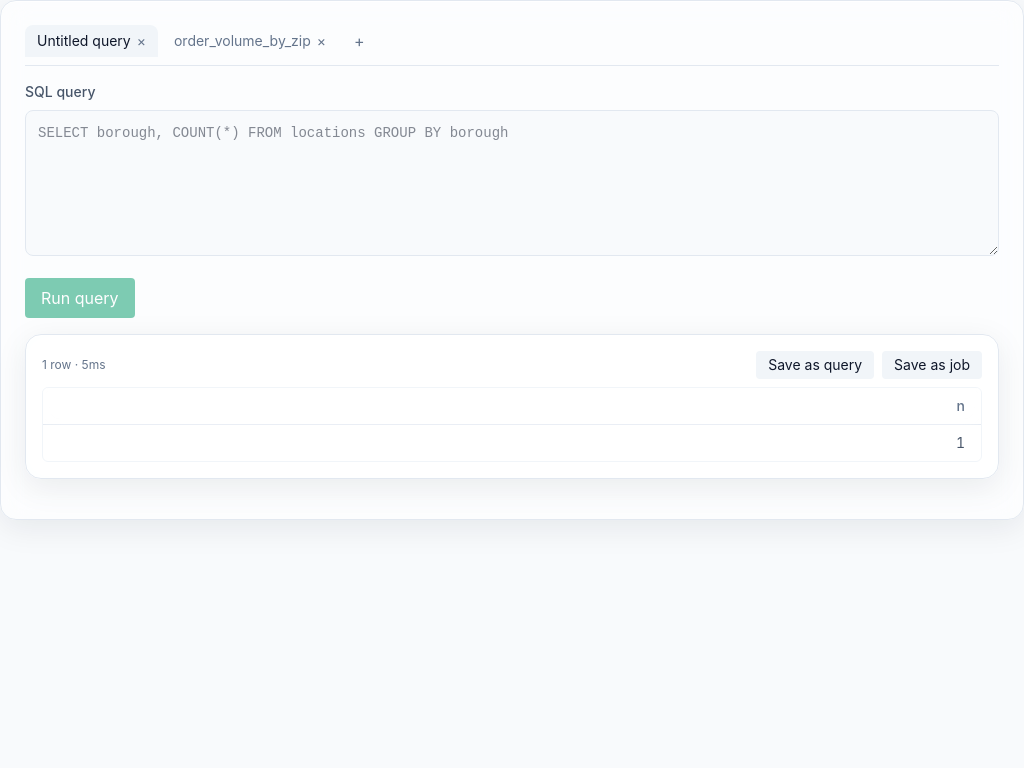
Scenario: QueryWorkspace › Save as job opens a JobDefinitionForm scoped to that tab, and creating dismisses it
In the text box labelled "SQL query": (512,183) x1=25 y1=110 x2=999 y2=256, type "SELECT 1"
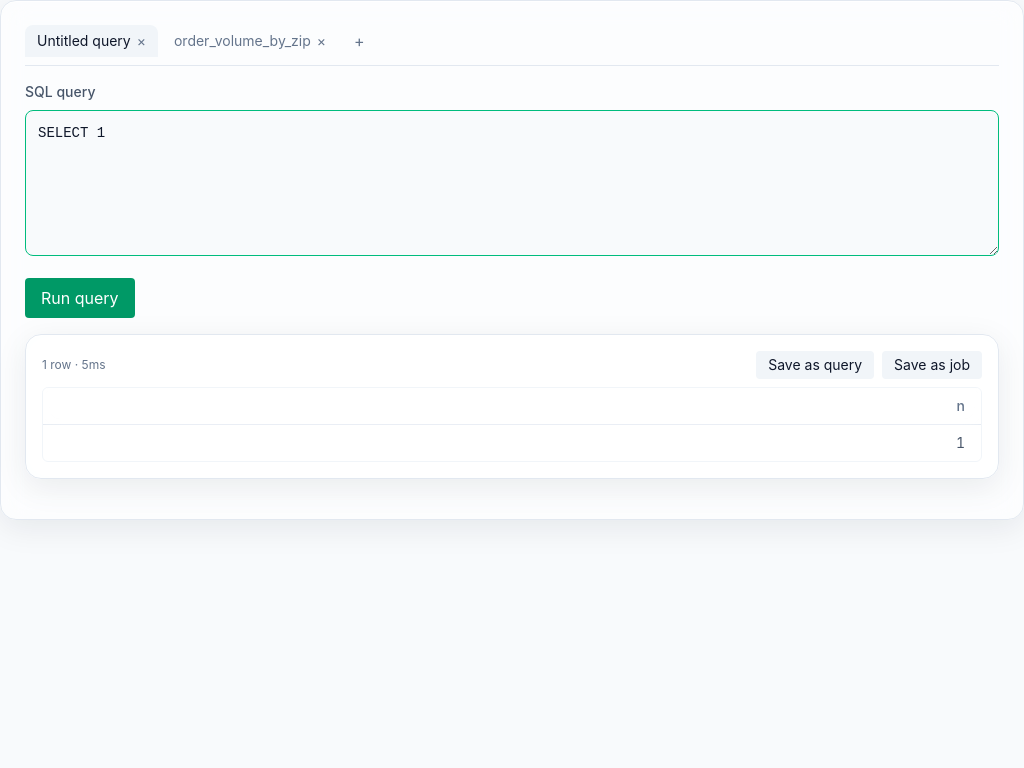
Click the button "Save as job": (932,365) x1=882 y1=351 x2=982 y2=379
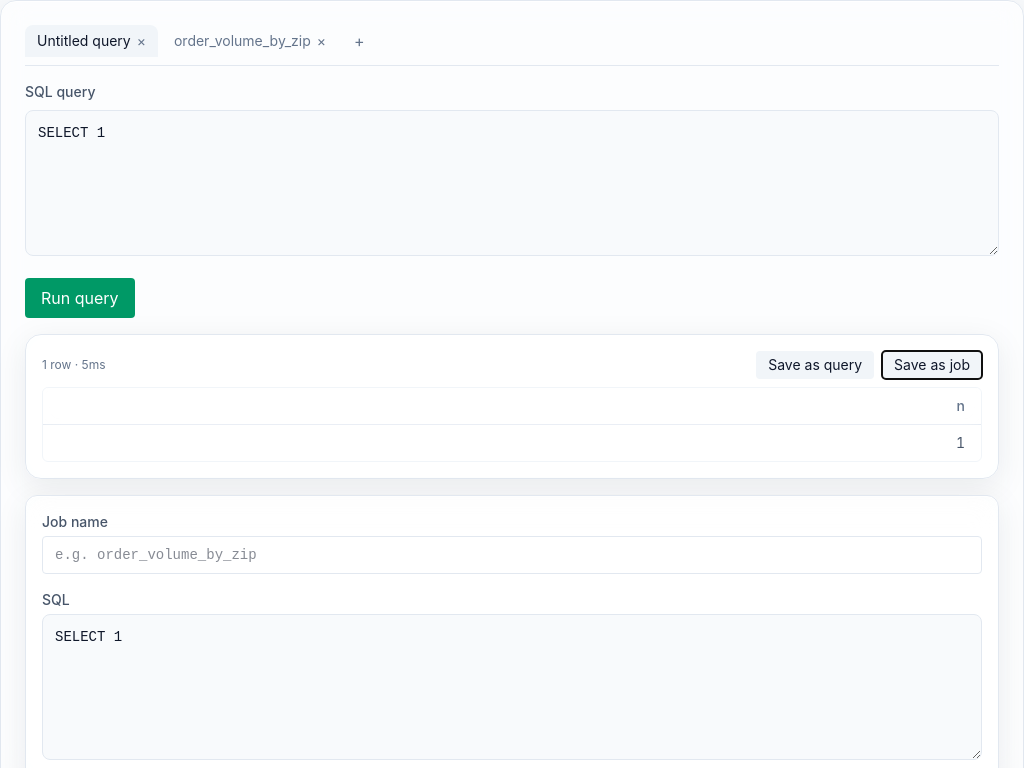
Now the field labelled "Job name" is shown
In the field labelled "Job name": (512,555) x1=42 y1=536 x2=982 y2=574, type "order_volume_by_zip"
(page scrolled)
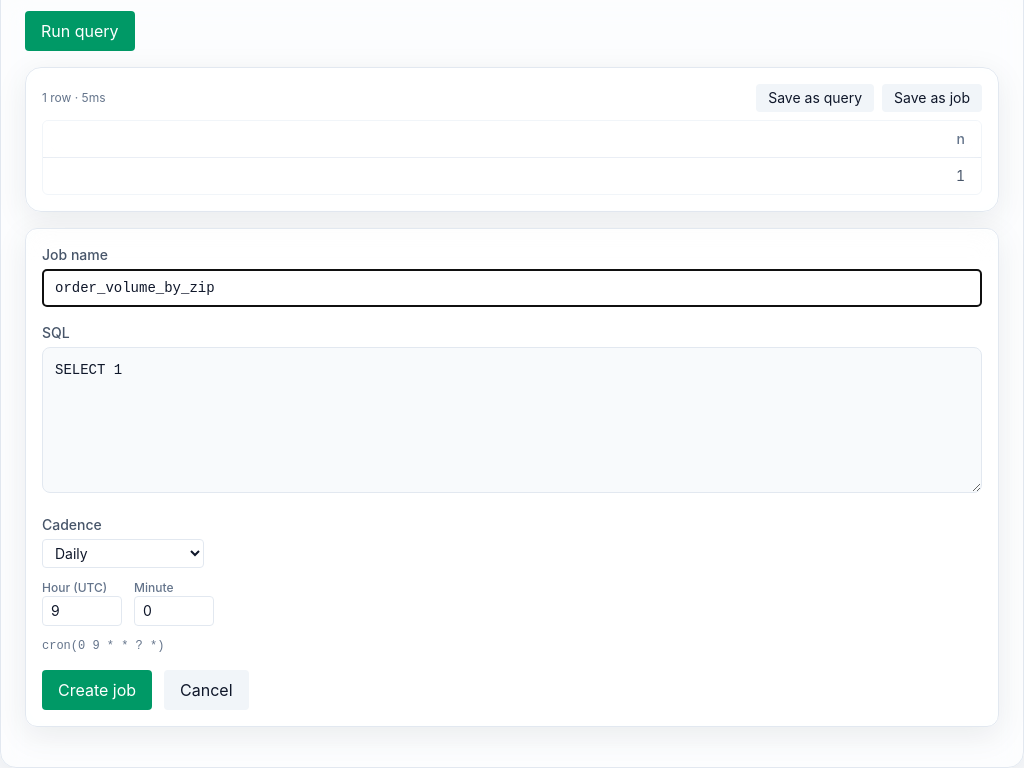
Click the button "Create job": (97,690) x1=42 y1=670 x2=152 y2=710
(page scrolled)
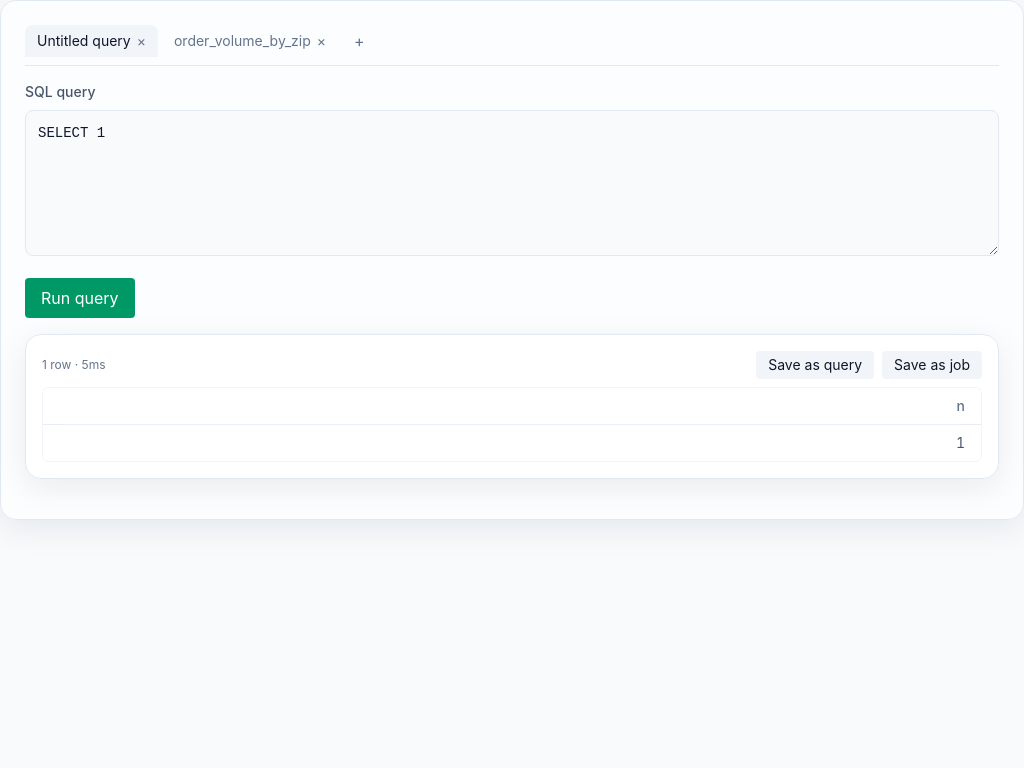
Now the label labelled "Job name" is gone
